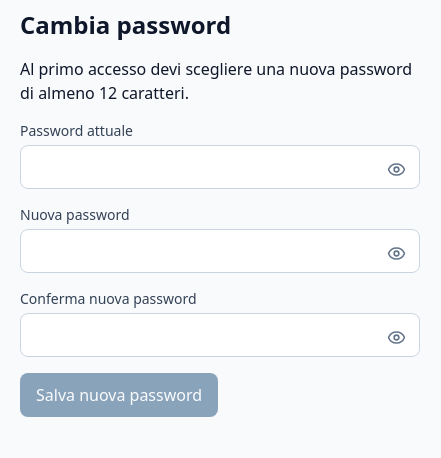
Test: ChangePassword › mostra un errore quando nuova password e conferma non coincidono
Type "NuovaPassword1!" into the password field labelled "Nuova password" at [220, 251], box [20,229,420,273]
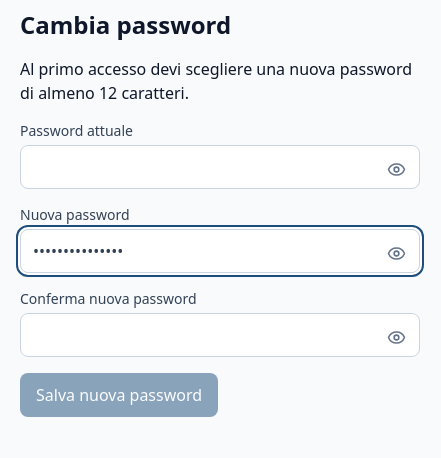
Type "PasswordDiversa1!" into the password field labelled "Conferma nuova password" at [220, 335], box [20,313,420,357]
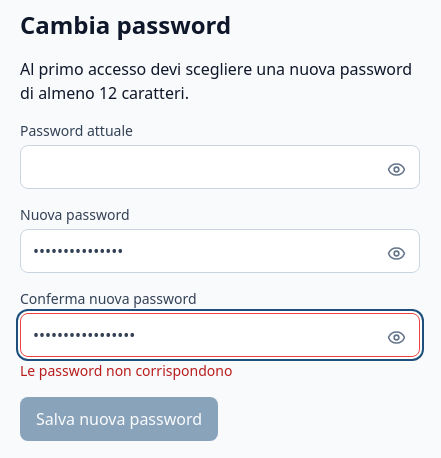
Expected: the button "Salva nuova password" is disabled, [20,397,218,441]
Expected: the text "Le password non corrispondono" is shown, [20,361,232,380]
